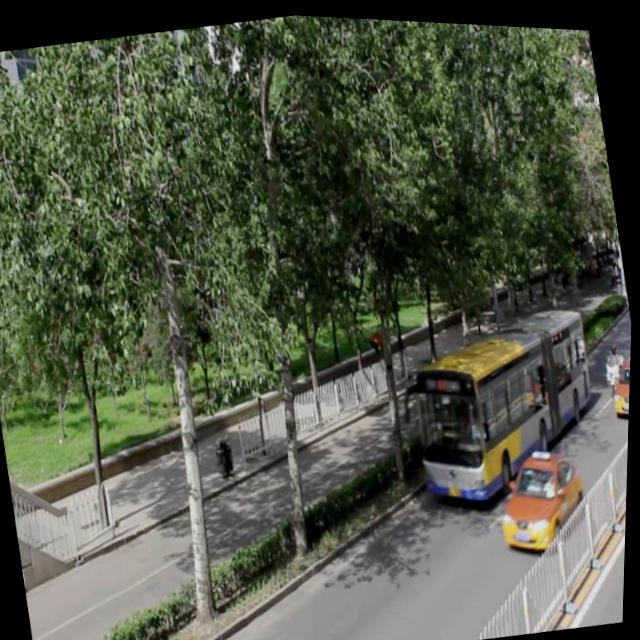car: (489, 437, 595, 553), (605, 348, 632, 413)
van: (400, 290, 608, 506)
